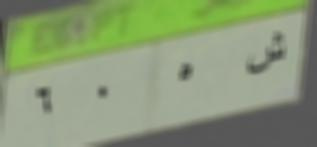0: (90, 74, 115, 107)
6: (29, 77, 58, 122)
haa: (171, 57, 196, 87)
sheen: (244, 31, 289, 77)
